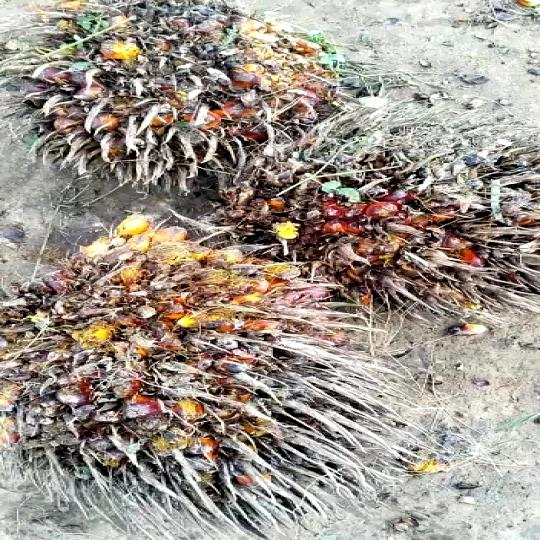terlalu masak: (0, 223, 397, 534), (209, 130, 535, 329), (19, 2, 355, 182)
